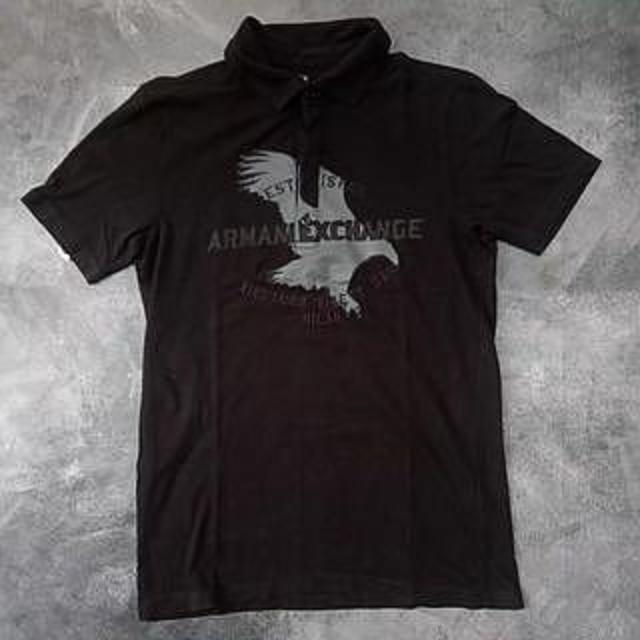T_SHIRT: (16, 16, 607, 625)
